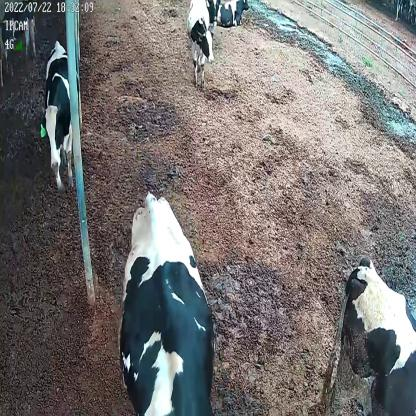cow: (40, 39, 81, 190), (187, 0, 215, 84), (215, 0, 249, 28)
